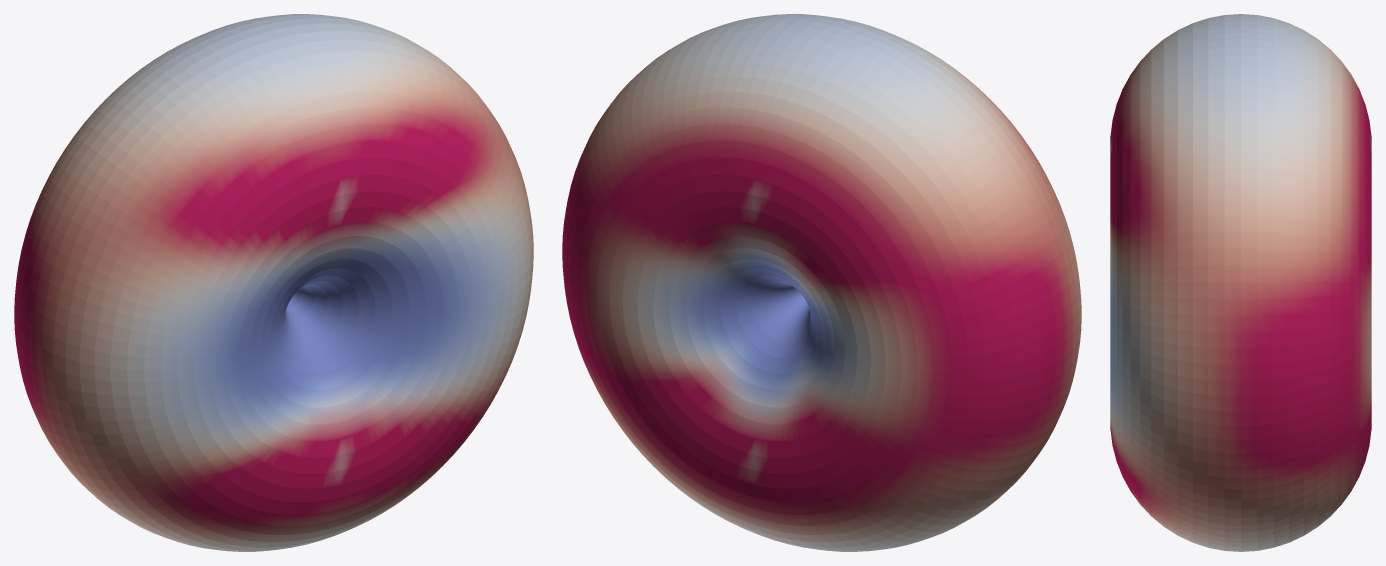
The picture shows the model from 3 angles, left to right: view 1: azimuth 30°, elevation 25°; view 2: azimuth 150°, elevation 25°; view 3: azimuth 270°, elevation 25°; orthographic projection. The views are drawn at different scales.
Visible parts, largest first — view 1: world; view 2: world; view 3: world.
Part boxes in pixels (x1,y1,x2,y2): world: (14,14,533,551); world: (562,14,1081,551); world: (1110,14,1371,551).
Bounding box in the file's own units: 19.47 × 19.47 × 9.45.
